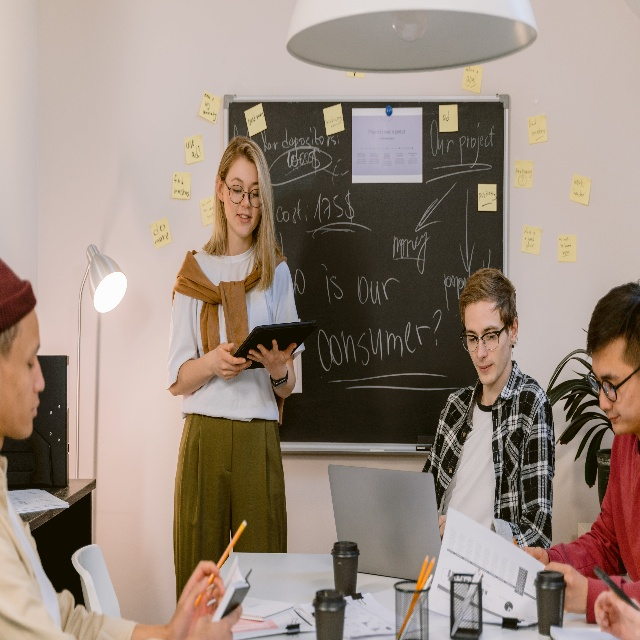Gafas: (587, 366, 640, 401), (459, 323, 512, 352), (221, 173, 262, 208)
Sin_guantes: (167, 557, 225, 640), (543, 559, 589, 615), (592, 589, 640, 640), (184, 599, 242, 640), (246, 338, 297, 374), (212, 341, 252, 380), (519, 545, 549, 566)
